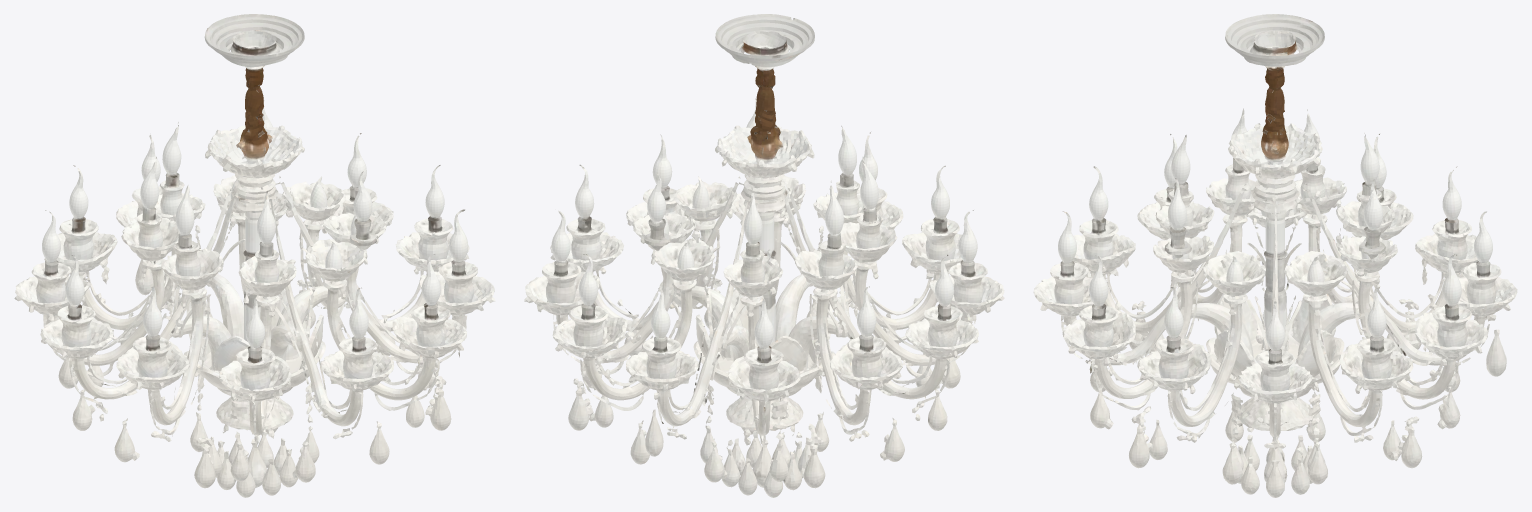
Rendered from crystal-chandelier.glb.
3 renders of one model, left to right at view 1: azimuth 30°, elevation 25°; view 2: azimuth 150°, elevation 25°; view 3: azimuth 270°, elevation 25°, orthographic.
Visible parts, largest first — view 1: mesh_node; view 2: mesh_node; view 3: mesh_node.
Part boxes in pixels (x1=…): mesh_node: x1=14, y1=14, x2=495, y2=497; mesh_node: x1=524, y1=14, x2=1004, y2=497; mesh_node: x1=1033, y1=14, x2=1517, y2=497.
Bounding box in the file's own units: 1.84 × 1.9 × 1.84.
1 material, 1 textured.
